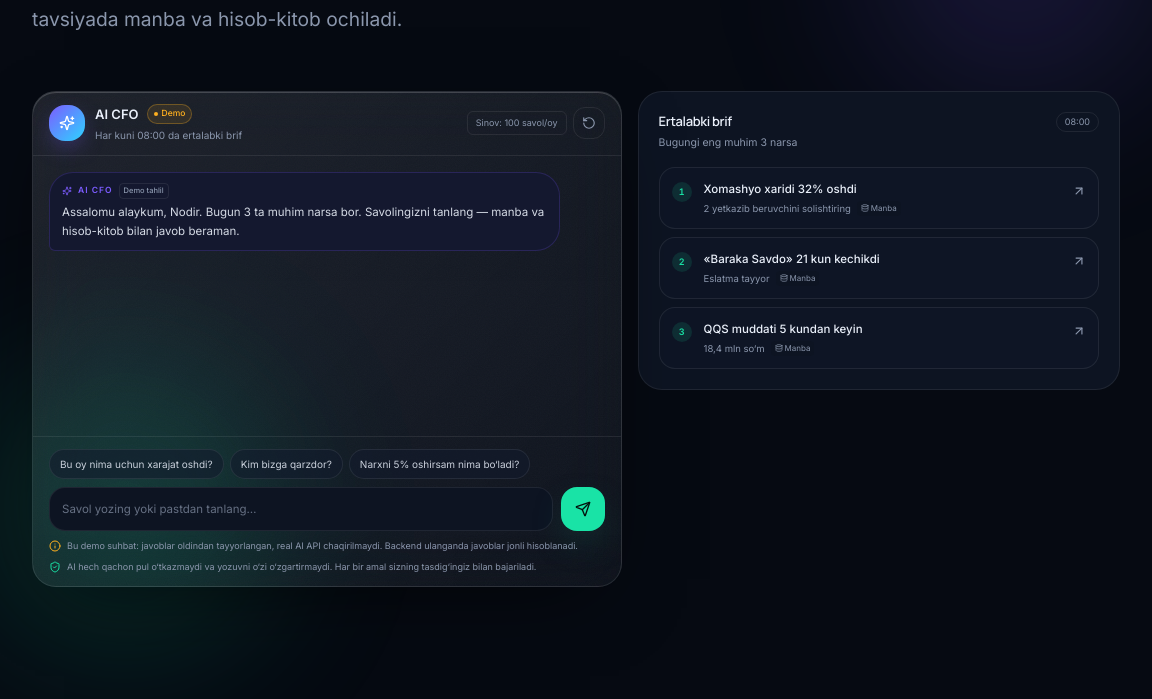
Scenario: AI CFO demo holatlari › demo doirasidan tashqari savolda halol fallback beradi
This screenshot has width=1152, height=699.
(page scrolled)
Step 1. Type "Kelajakdagi savol" into the field labelled "Savol yozing yoki pastdan tanlang…" → (301, 509), box [49,487,553,531]
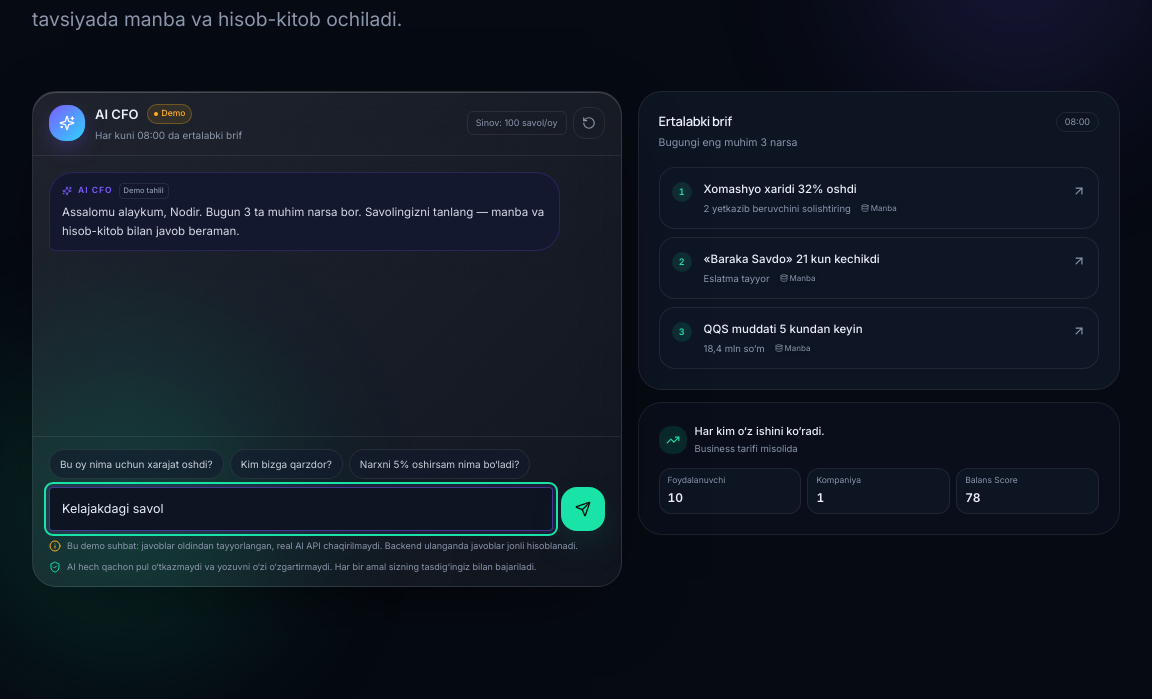
Step 2. Click the button named "Yuborish" → (583, 509), box [561,487,605,531]
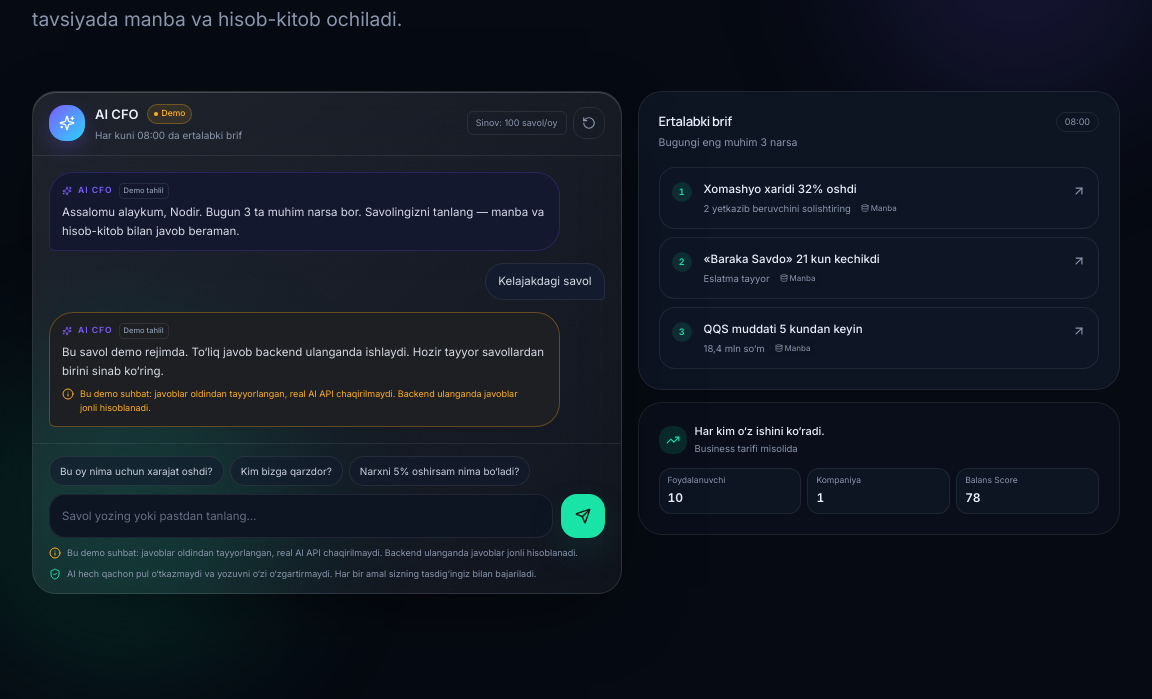
Now the text "Bu savol demo rejimda. To‘liq javob backend ulanganda ishlaydi. Hozir tayyor savollardan birini sinab ko‘ring." is shown, box [62,345,544,378]
Now the text "Bu demo suhbat: javoblar oldindan tayyorlangan, real AI API chaqirilmaydi. Backend ulanganda javoblar jonli hisoblanadi." below "Kelajakdagi savol" is shown, box [80,388,518,413]
